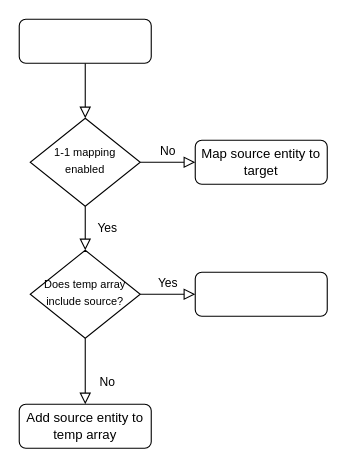
Some shapes in this 347 by 468 pixel diagram are drawn without their labels. The shapes that lost their labels are listed below. From the top down, each one's box as (x1, y1, x2, y2) in pixels, then its label:
(18, 18, 151, 63): On drag and drop of a source entity to target
(194, 271, 327, 316): Reject source entity and display toast
